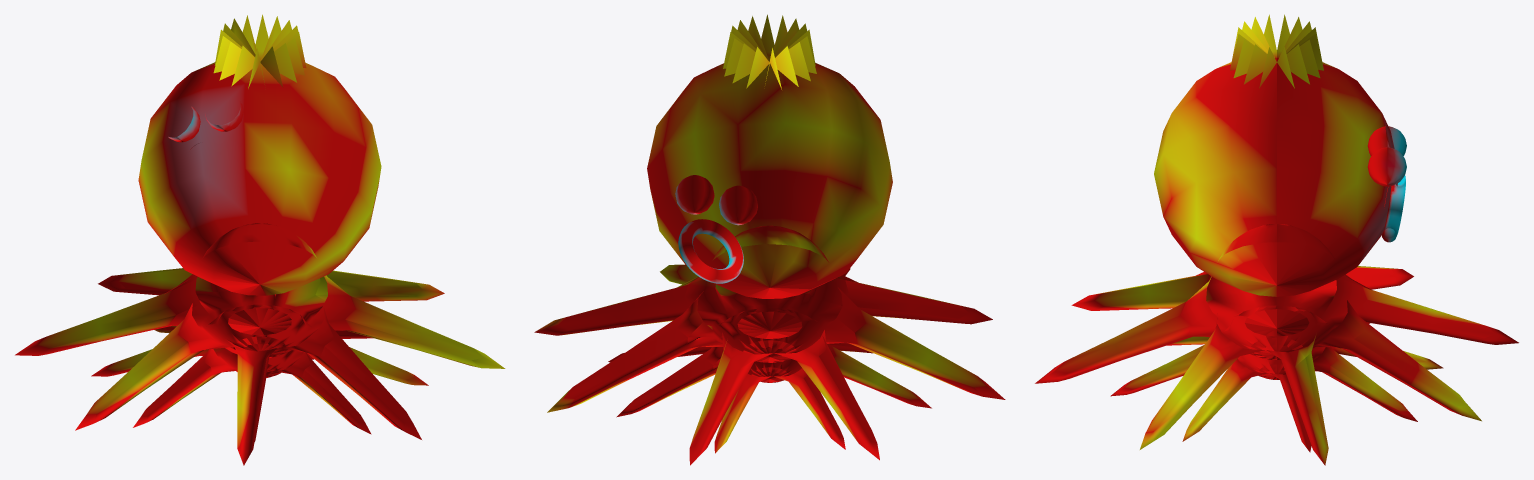
Rendered from hexasaur.glb.
The picture shows the model from 3 angles, left to right: view 1: azimuth 30°, elevation 25°; view 2: azimuth 150°, elevation 25°; view 3: azimuth 270°, elevation 25°; orthographic projection.
Visible parts, largest first — view 1: Hexasaur; view 2: Hexasaur; view 3: Hexasaur.
Boxes of the visible parts, x1,y1,x2,y2 form: Hexasaur: [15, 14, 505, 465]; Hexasaur: [534, 14, 1005, 465]; Hexasaur: [1035, 14, 1518, 465].
Bounding box in the file's own units: 1.48 × 1.18 × 1.48.
